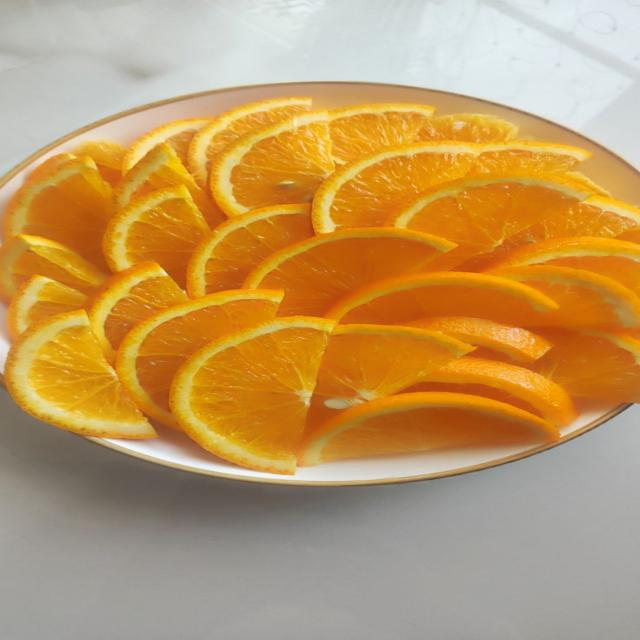orange: (171, 317, 333, 474), (313, 141, 589, 233), (116, 291, 281, 427), (5, 310, 155, 437), (299, 392, 559, 465), (390, 175, 590, 269), (245, 228, 455, 315), (307, 325, 473, 432), (460, 196, 639, 270), (210, 111, 333, 217), (3, 157, 113, 267), (327, 272, 559, 324), (187, 205, 313, 297), (408, 357, 577, 425), (188, 97, 311, 188), (103, 186, 209, 287), (87, 262, 186, 361), (114, 143, 226, 228), (491, 265, 639, 327), (490, 237, 639, 294), (532, 329, 639, 402), (0, 235, 106, 301), (407, 317, 552, 362), (329, 104, 434, 164), (7, 276, 87, 338), (122, 118, 211, 172), (470, 141, 592, 175), (415, 114, 518, 142), (73, 141, 126, 186), (27, 153, 76, 181), (565, 171, 612, 197), (617, 226, 639, 243)
